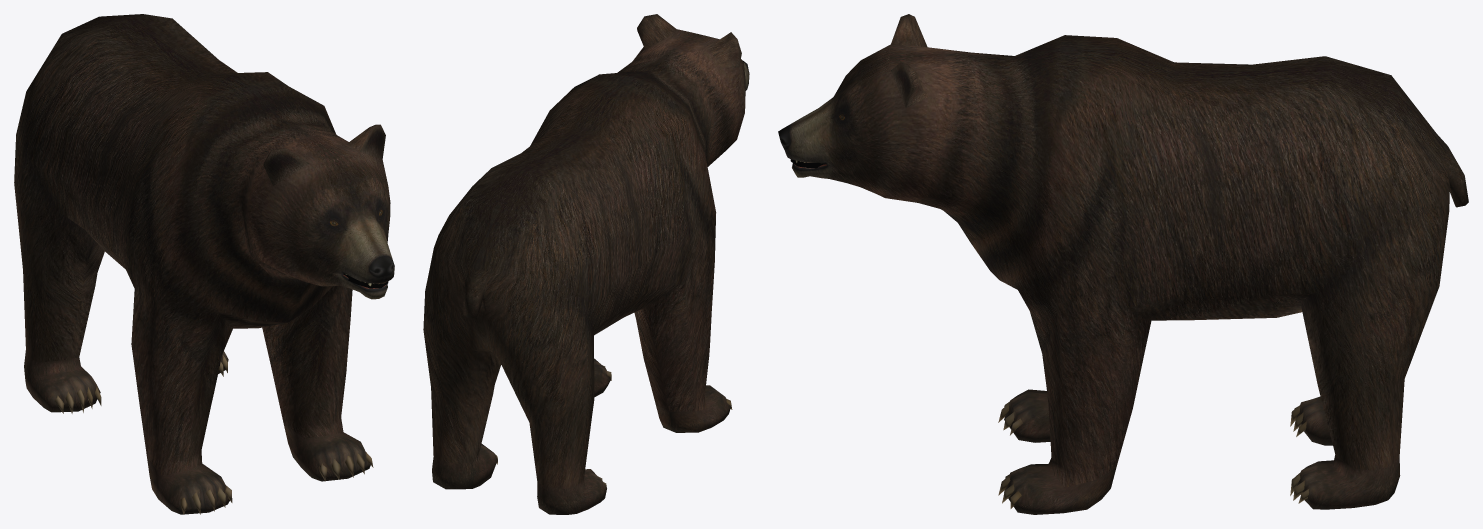
File: bearD.obj
The picture shows the model from 3 angles, left to right: view 1: azimuth 30°, elevation 25°; view 2: azimuth 150°, elevation 25°; view 3: azimuth 270°, elevation 25°; orthographic projection. The views are drawn at different scales.
Parts seen in each view (by area): view 1: bearD:bear____N group; view 2: bearD:bear____N group; view 3: bearD:bear____N group.
Boxes of the visible parts, x1=… form: bearD:bear____N group: x1=14, y1=14, x2=394, y2=514; bearD:bear____N group: x1=423, y1=14, x2=749, y2=514; bearD:bear____N group: x1=778, y1=14, x2=1468, y2=514.
Size of the model in its own units: 61.46 by 118 by 173.
Materials: 2 (2 with a texture image).
